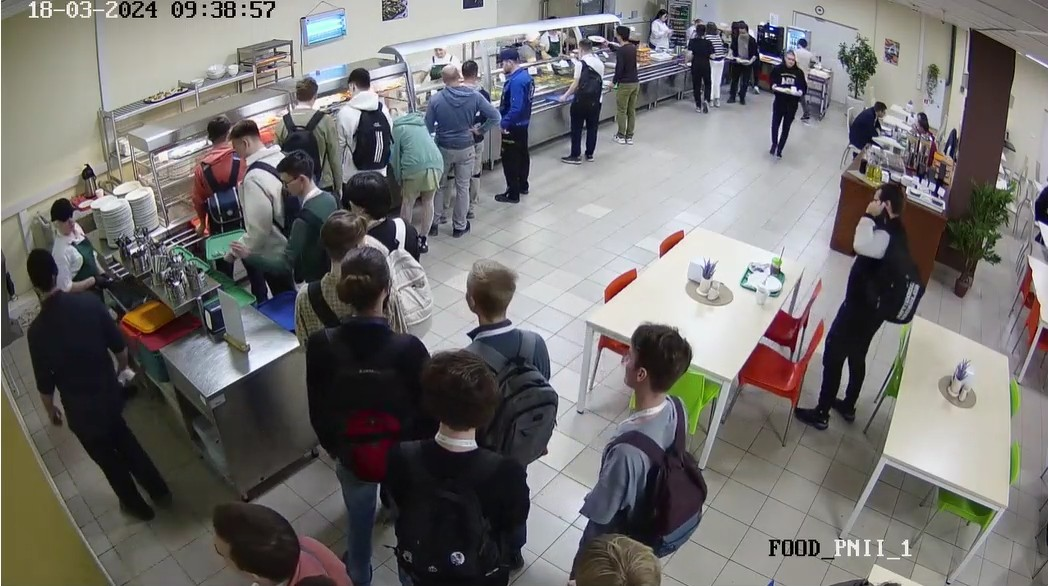Na_Kasse: (733, 24, 752, 102), (694, 26, 711, 113), (708, 23, 724, 111)
Ne_v_Ocheredi: (298, 247, 425, 577), (390, 359, 522, 586), (583, 308, 700, 549), (797, 187, 911, 432), (455, 259, 571, 457), (196, 497, 353, 586), (341, 163, 434, 310), (572, 516, 661, 586), (303, 202, 360, 310), (766, 56, 799, 156)
Personal: (18, 251, 169, 515), (41, 196, 112, 282), (522, 16, 572, 59), (647, 6, 673, 48), (425, 41, 459, 71)
Vybiraet: (209, 129, 275, 294), (262, 151, 326, 291), (389, 112, 448, 252), (427, 66, 476, 229), (177, 111, 239, 237), (335, 61, 384, 185), (496, 47, 532, 197), (276, 71, 333, 165), (561, 39, 604, 158), (612, 27, 639, 143)
Za_Stolom: (841, 96, 888, 165), (1029, 169, 1048, 242), (905, 108, 932, 154)
